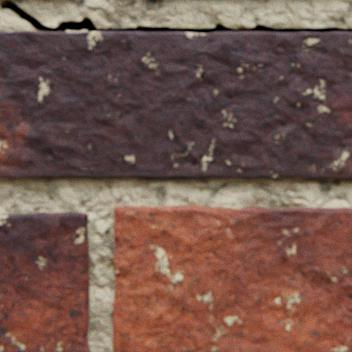brick: (0, 31, 351, 178), (113, 204, 351, 351), (0, 211, 90, 351)
crack: (0, 0, 351, 33)
